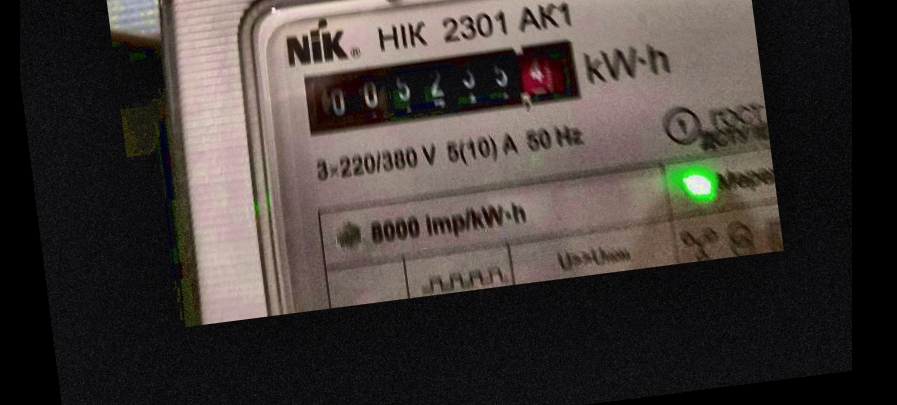0: (359, 75, 383, 110), (328, 83, 350, 116)
2: (424, 64, 449, 100)
3: (456, 57, 484, 93)
4: (524, 49, 550, 87)
5: (489, 52, 516, 91), (392, 69, 416, 104)
screen: (285, 24, 596, 148)
